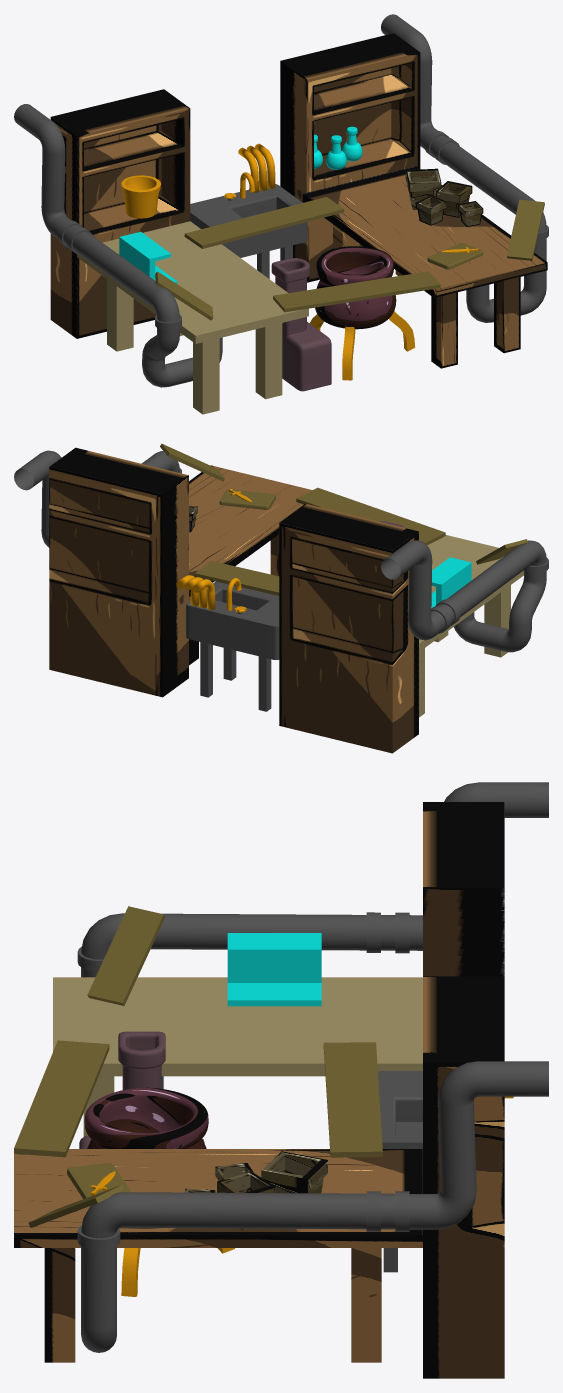
File: Environment.fbx
3 renders of one model, top to bottom at view 1: azimuth 30°, elevation 25°; view 2: azimuth 150°, elevation 25°; view 3: azimuth 270°, elevation 25°, orthographic. The views are drawn at different scales.
Parts seen in each view (by area): view 1: Left_cabinet, Right_cabinet, Right_table, Left_table, Left_Pipe, Right_Pipe, polySurface4, Furnace, polySurface13, Front_plank, Medium_pot1, Back_plank (+8 smaller); view 2: Right_cabinet, Left_cabinet, Left_Pipe, Right_table, polySurface13, Left_table, Right_Pipe, Front_plank, Back_plank, Bottle_rack, Chopping_board, polySurface10 (+4 smaller); view 3: Right_table, Left_table, Right_cabinet, Right_Pipe, Left_cabinet, Left_Pipe, Bottle_rack, polySurface4, Front_plank, Back_plank, Left_plank, Medium_pot1 (+5 smaller).
Part boxes in pixels (left/top/right/bottom): Left_cabinet: left=50, top=89, right=190, bottom=338; Right_cabinet: left=280, top=33, right=420, bottom=282; Right_table: left=302, top=166, right=547, bottom=368; Left_table: left=77, top=221, right=308, bottom=414; Left_Pipe: left=14, top=104, right=222, bottom=387; Right_Pipe: left=381, top=14, right=548, bottom=322; polySurface4: left=315, top=246, right=396, bottom=329; Furnace: left=271, top=258, right=331, bottom=391; polySurface13: left=190, top=184, right=307, bottom=257; Front_plank: left=273, top=271, right=440, bottom=312; Medium_pot1: left=405, top=168, right=483, bottom=226; Back_plank: left=184, top=197, right=344, bottom=248; Right_cabinet: left=49, top=447, right=188, bottom=697; Left_cabinet: left=279, top=504, right=418, bottom=753; Left_Pipe: left=381, top=540, right=548, bottom=652; Right_table: left=189, top=465, right=312, bottom=665; polySurface13: left=186, top=581, right=279, bottom=659; Left_table: left=419, top=535, right=523, bottom=717; Right_Pipe: left=14, top=450, right=181, bottom=547; Front_plank: left=296, top=487, right=445, bottom=545; Back_plank: left=194, top=561, right=279, bottom=595; Bottle_rack: left=431, top=557, right=471, bottom=608; Chopping_board: left=219, top=489, right=275, bottom=509; polySurface10: left=258, top=656, right=271, bottom=711; Right_table: left=14, top=1149, right=422, bottom=1362; Left_table: left=53, top=977, right=422, bottom=1136; Right_cabinet: left=423, top=976, right=504, bottom=1378; Right_Pipe: left=77, top=1061, right=548, bottom=1352; Left_cabinet: left=423, top=802, right=504, bottom=976; Left_Pipe: left=77, top=782, right=548, bottom=1088; Bottle_rack: left=227, top=933, right=321, bottom=1006; polySurface4: left=84, top=1087, right=208, bottom=1148; Front_plank: left=14, top=1040, right=109, bottom=1157; Back_plank: left=323, top=1042, right=382, bottom=1157; Left_plank: left=87, top=906, right=165, bottom=1005; Medium_pot1: left=184, top=1151, right=327, bottom=1229.
Size of the model in its own units: 48.87 by 24.92 by 37.23.
